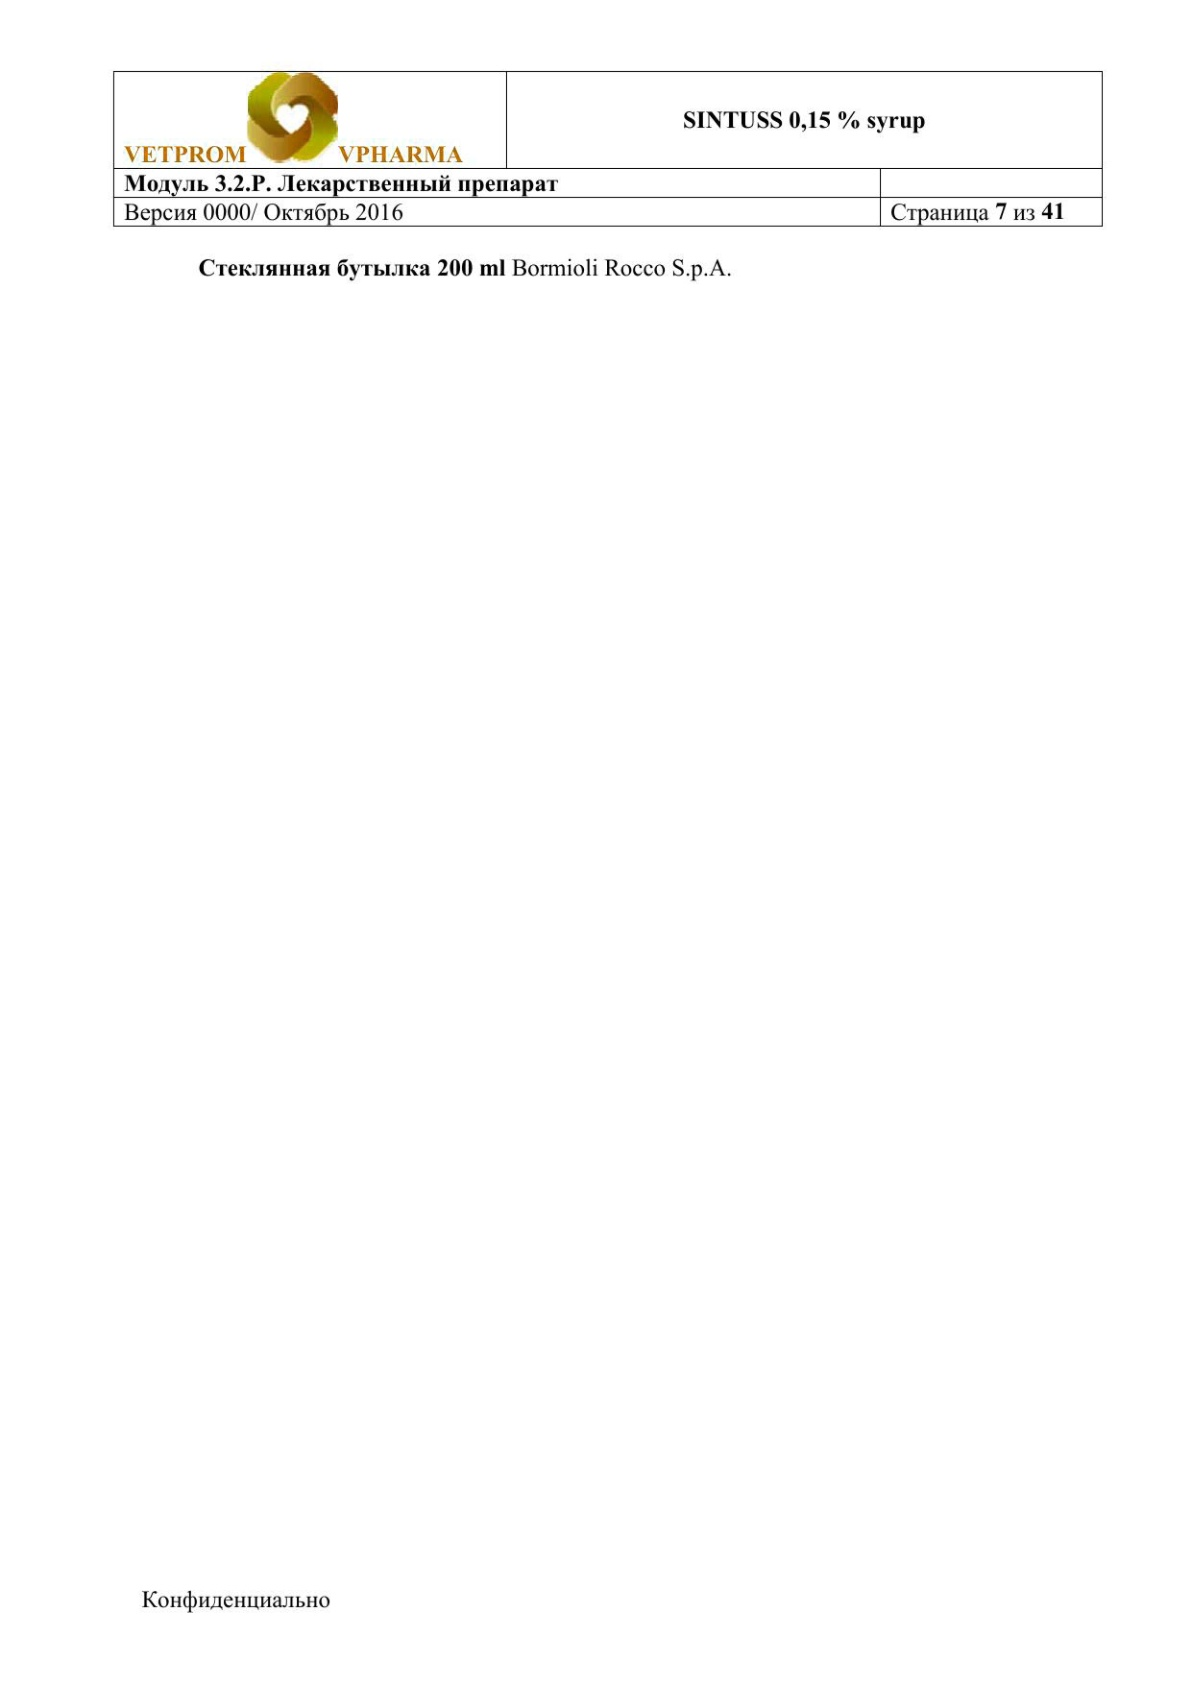merged_cells: (111, 68, 1104, 228)
